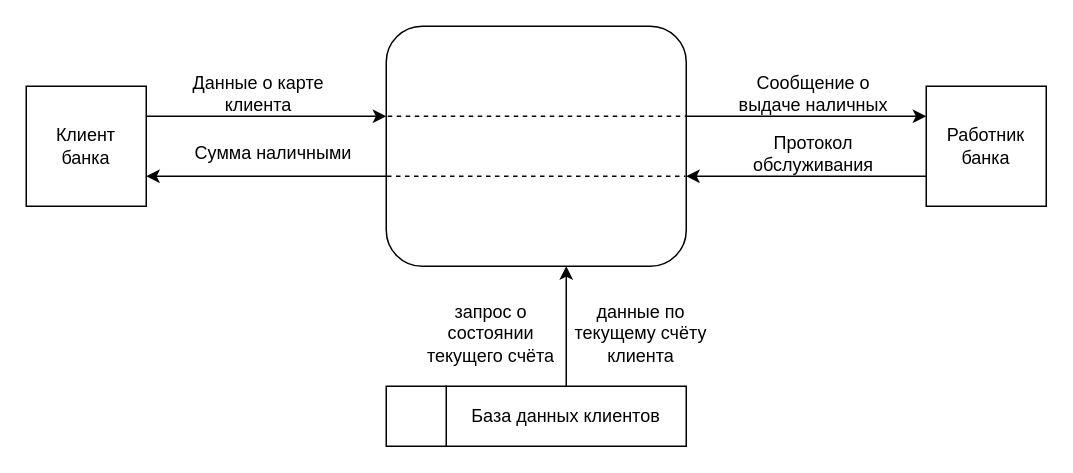
This 1073x473 diagram has some shape labels left out. The centre of each missing label's shape, as x and y in pixels:
"1.1 Выдать клиенту сумму наличными Банкомат" goes at [535,145].
"С1" goes at [415,415].
